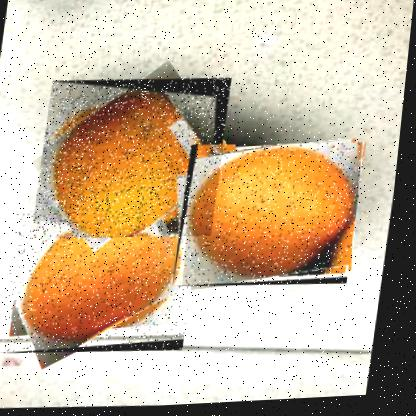orange: (35, 72, 234, 245), (5, 195, 208, 359), (177, 138, 370, 294)
